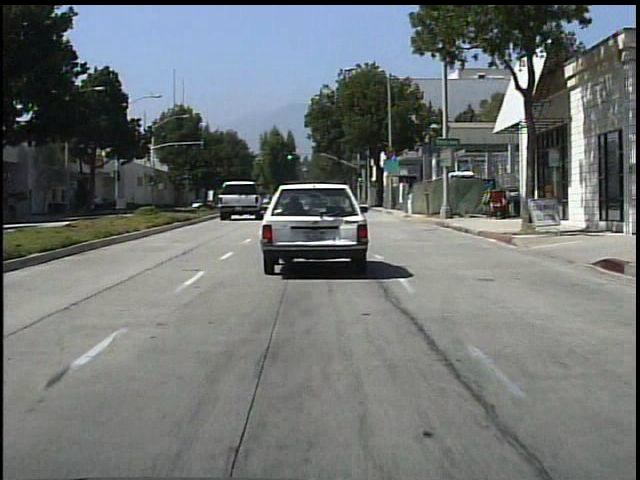person: (9, 195, 28, 227)
